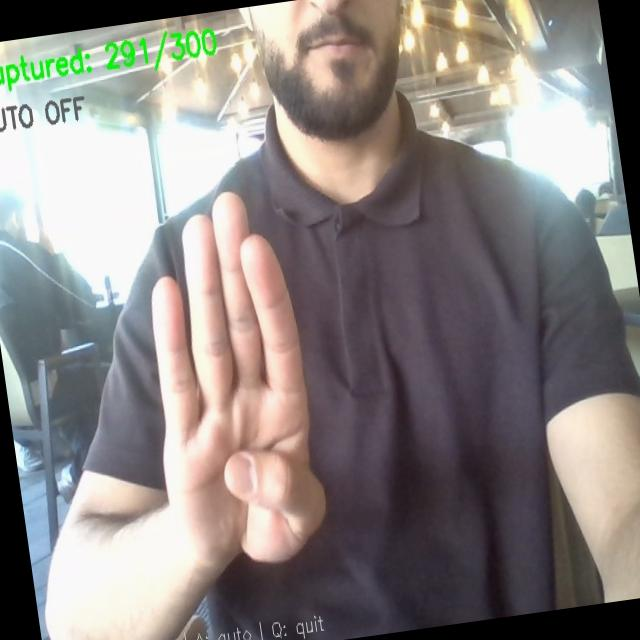Hand: (152, 194, 325, 571)
